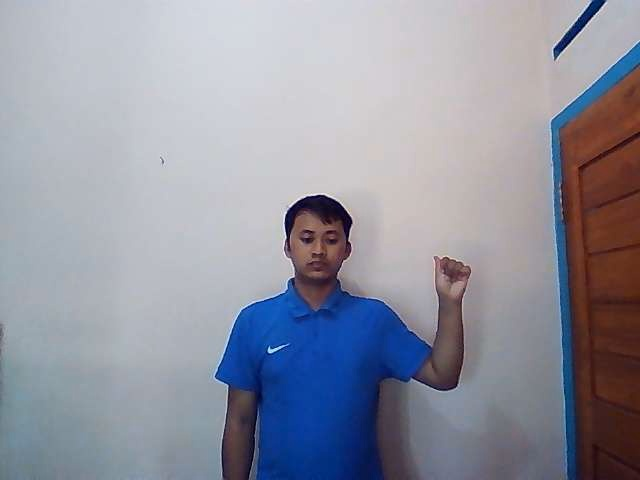A: (433, 255, 472, 301)
